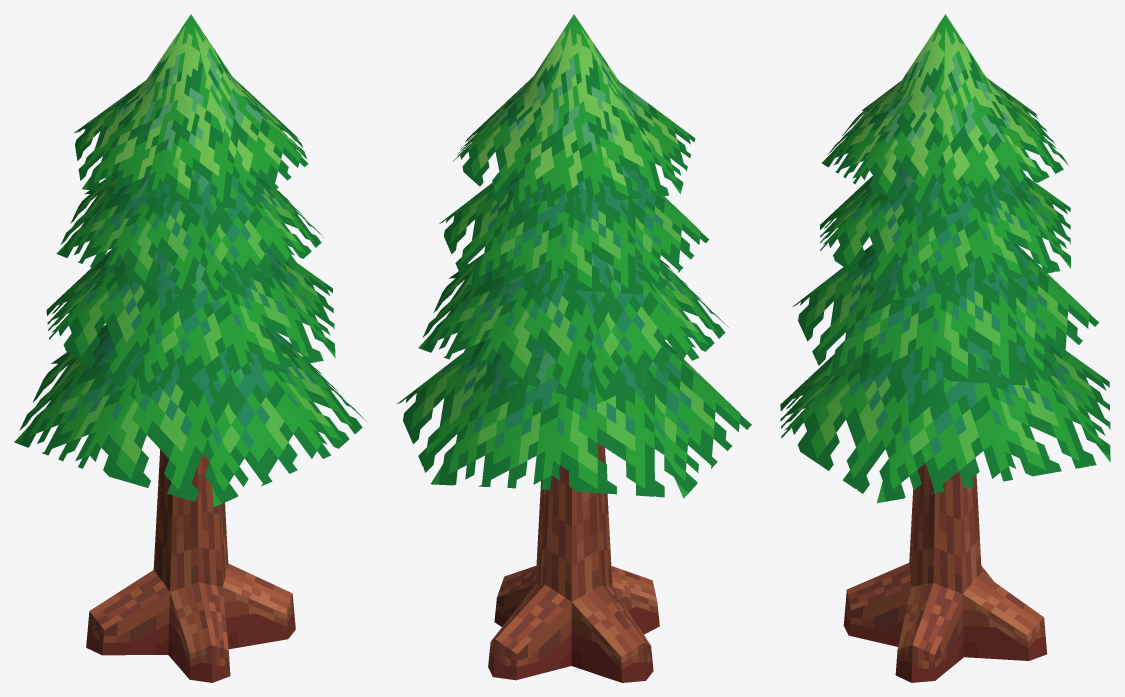
File: tree.glb
3 views of the same model, side by side, from view 1: azimuth 30°, elevation 25°; view 2: azimuth 150°, elevation 25°; view 3: azimuth 270°, elevation 25° (orthographic).
Visible parts, largest first — view 1: tree_00_main_mat_0; view 2: tree_00_main_mat_0; view 3: tree_00_main_mat_0.
Part boxes in pixels (x1,y1,x2,y2): tree_00_main_mat_0: (14, 14, 366, 682); tree_00_main_mat_0: (397, 14, 751, 682); tree_00_main_mat_0: (780, 14, 1110, 682).
Bounding box in the file's own units: 4.09 × 8.58 × 4.09.
1 material, 1 textured.
